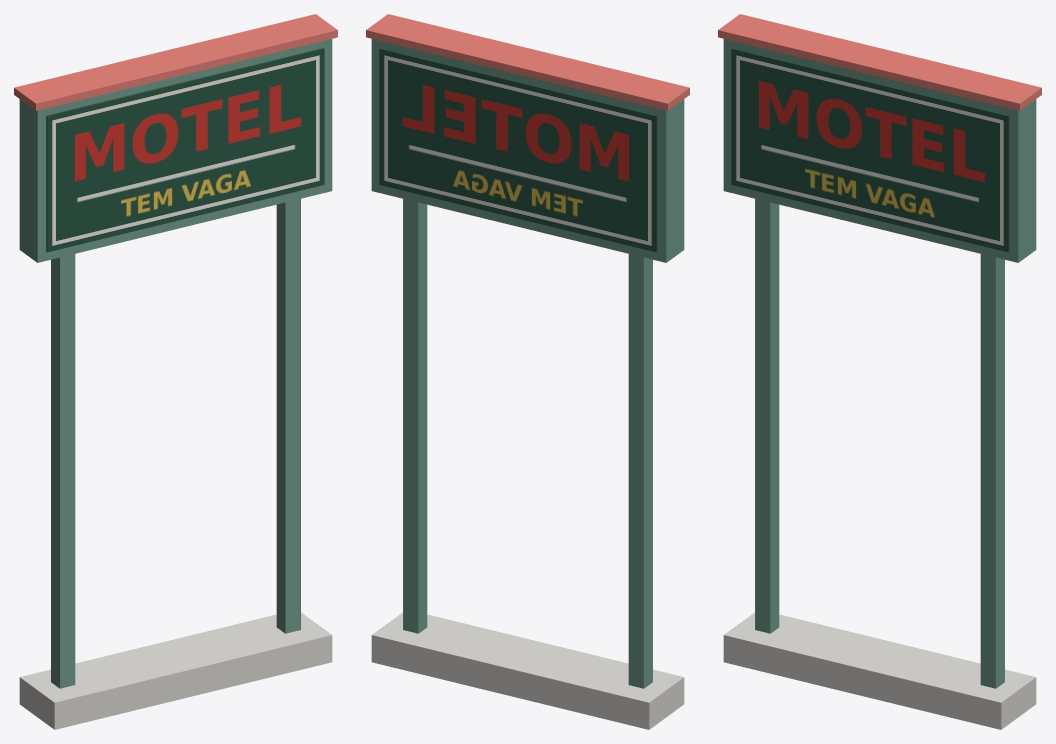
File: sign_pylon.glb
The picture shows the model from 3 angles, left to right: view 1: azimuth 30°, elevation 25°; view 2: azimuth 150°, elevation 25°; view 3: azimuth 330°, elevation 25°; orthographic projection.
Parts seen in each view (by area): view 1: sign_pylon_sign, sign_pylon_post, sign_pylon_concrete, sign_pylon_neon; view 2: sign_pylon_sign, sign_pylon_post, sign_pylon_concrete, sign_pylon_neon; view 3: sign_pylon_sign, sign_pylon_post, sign_pylon_concrete, sign_pylon_neon.
Boxes of the visible parts, left/top/right/bottom form: sign_pylon_sign: left=46, top=48, right=324, bottom=252; sign_pylon_post: left=19, top=39, right=332, bottom=688; sign_pylon_concrete: left=19, top=612, right=332, bottom=729; sign_pylon_neon: left=14, top=14, right=337, bottom=110; sign_pylon_sign: left=379, top=48, right=657, bottom=252; sign_pylon_post: left=371, top=39, right=684, bottom=688; sign_pylon_concrete: left=371, top=612, right=684, bottom=729; sign_pylon_neon: left=366, top=14, right=689, bottom=110; sign_pylon_sign: left=731, top=48, right=1009, bottom=252; sign_pylon_post: left=723, top=39, right=1036, bottom=688; sign_pylon_concrete: left=723, top=612, right=1036, bottom=729; sign_pylon_neon: left=718, top=14, right=1041, bottom=110.
Size of the model in its own units: 3.48 by 6.88 by 0.7.
Materials: 4 (1 with a texture image).
